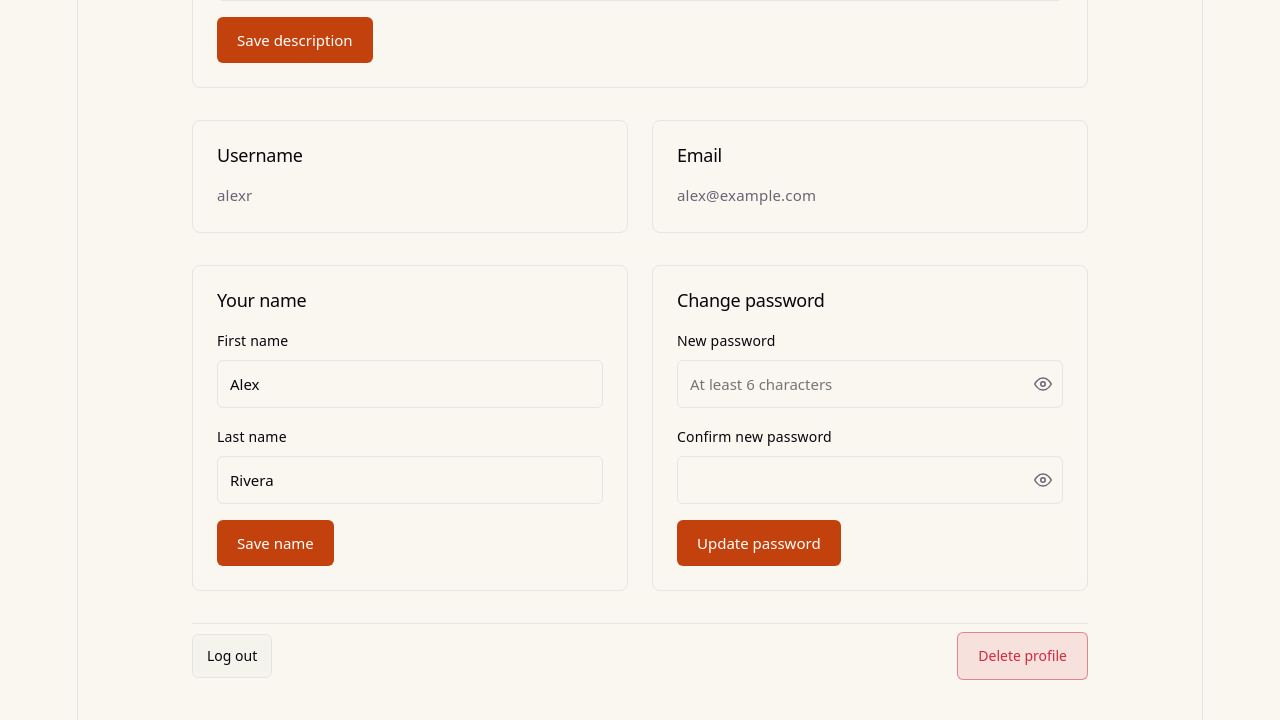
it: Profile › updates the password successfully
(page scrolled)
In the password field labelled "New password": (870, 384) [677,360,1063,408], type "password123"
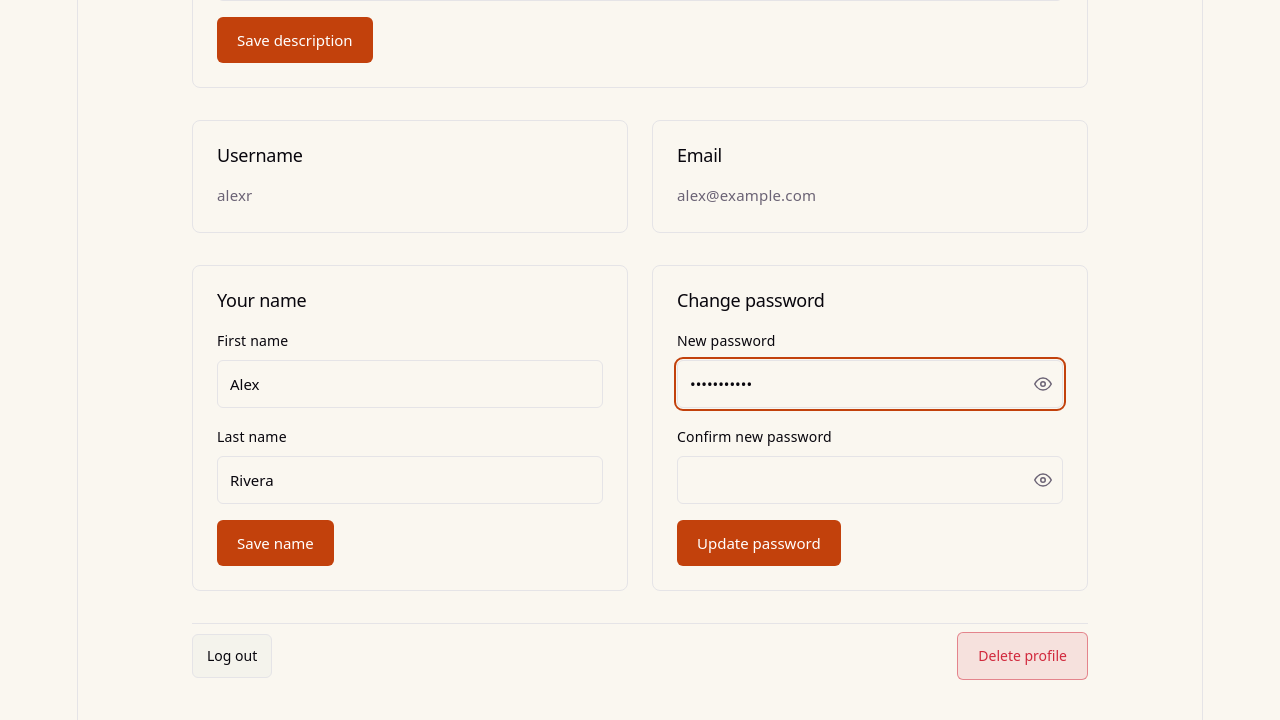
In the password field labelled "Confirm new password": (870, 480) [677,456,1063,504], type "password123"
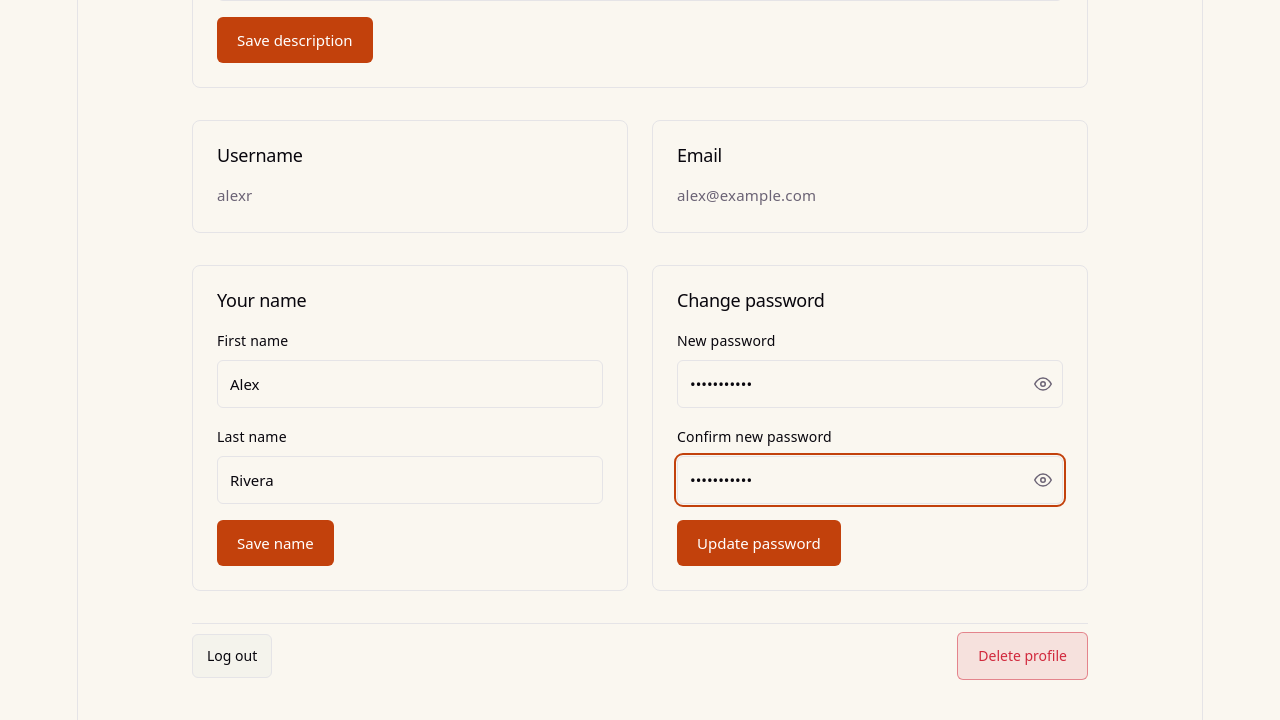
Click the button "Update password": (759, 543) [677,520,841,566]
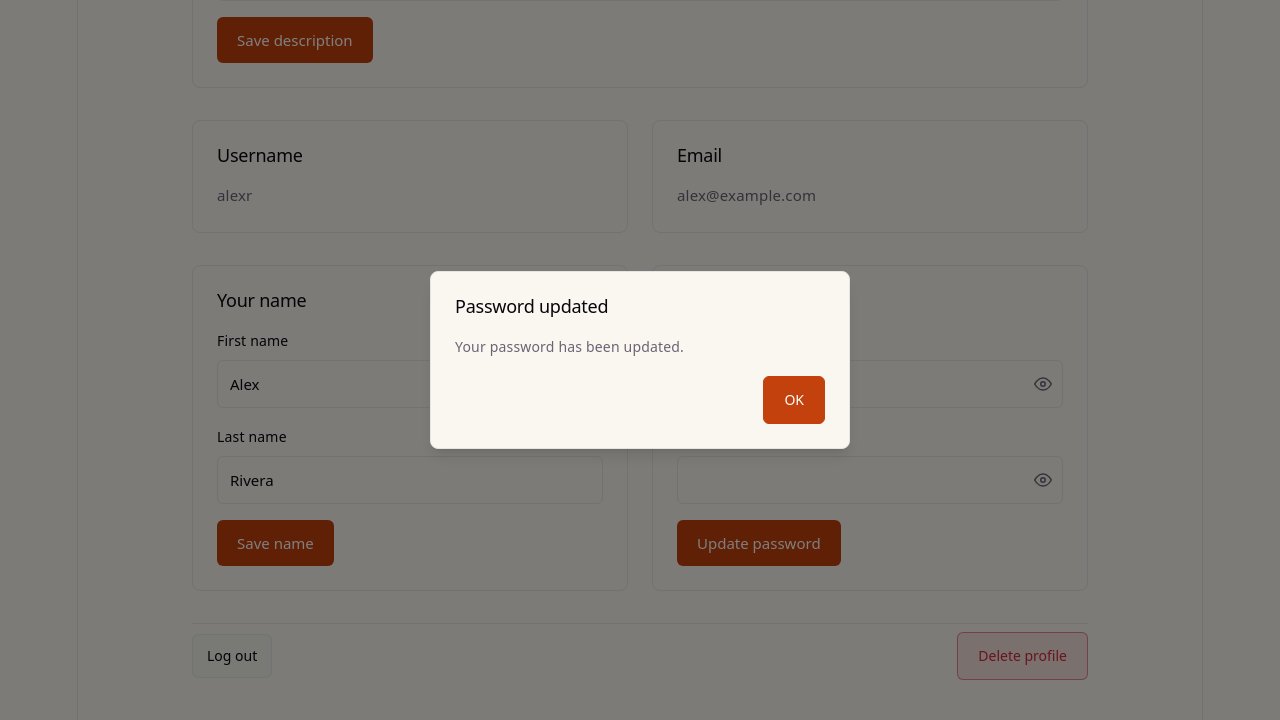
Result: the heading "Password updated" is shown at [455,294,608,318]
